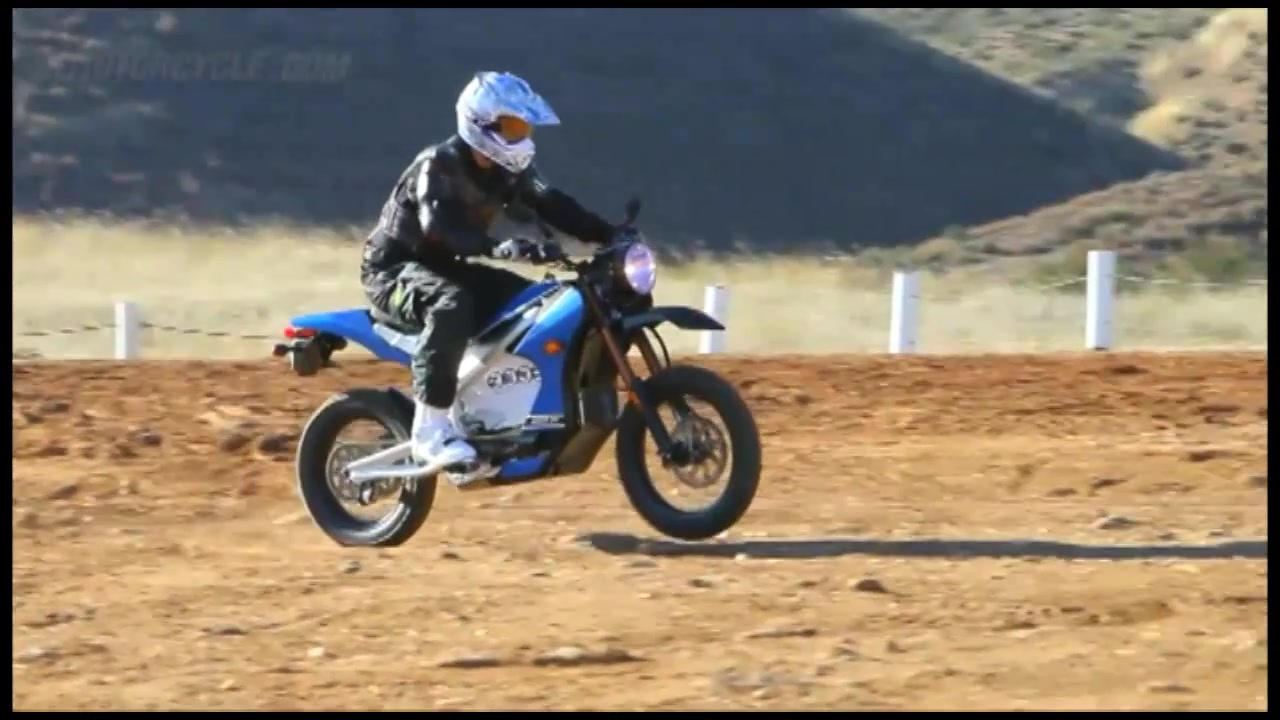motorbike: (276, 191, 762, 551)
